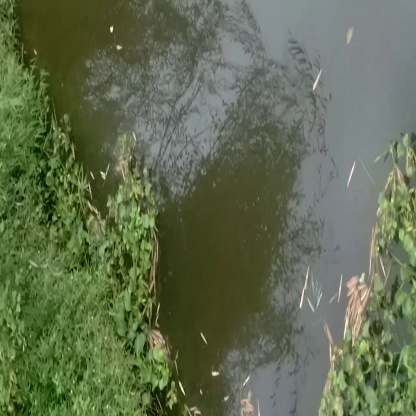leaf: (330, 275, 374, 340)
